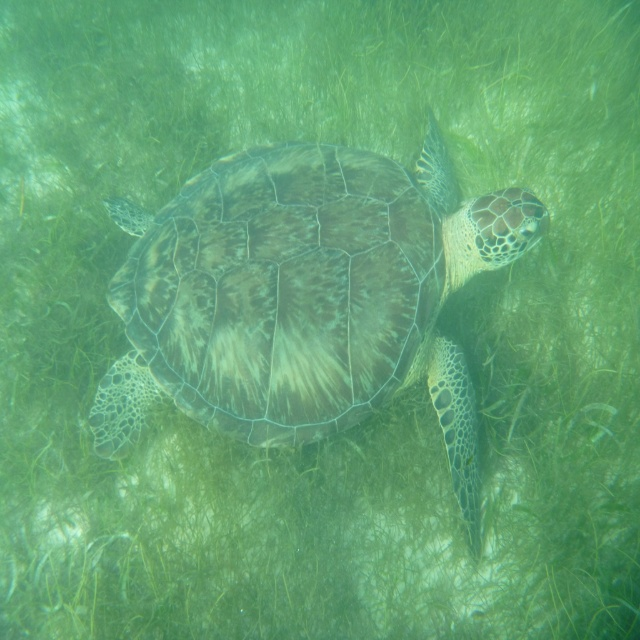Sea turtle: (86, 103, 551, 559)
